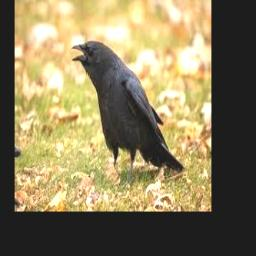Crow: (71, 40, 185, 184)
